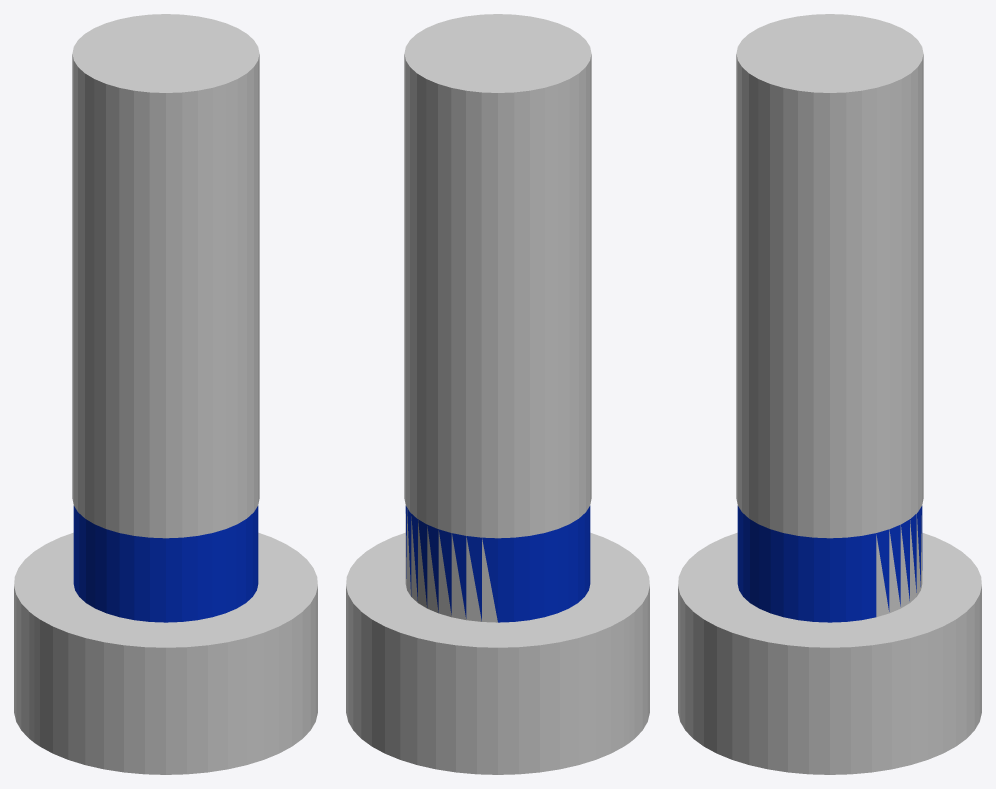
The model's file is Vis M8x25 LOW HEAD.fbx.
3 views of the same model, side by side, from view 1: azimuth 30°, elevation 25°; view 2: azimuth 150°, elevation 25°; view 3: azimuth 270°, elevation 25° (orthographic).
Parts seen in each view (by area): view 1: Vis M8x25 LOW HEAD; view 2: Vis M8x25 LOW HEAD; view 3: Vis M8x25 LOW HEAD.
Boxes of the visible parts, x1,y1,x2,y2 form: Vis M8x25 LOW HEAD: (14,14,317,774); Vis M8x25 LOW HEAD: (346,14,649,774); Vis M8x25 LOW HEAD: (678,14,981,774).
Bounding box in the file's own units: 1.3 × 3.1 × 1.3.
